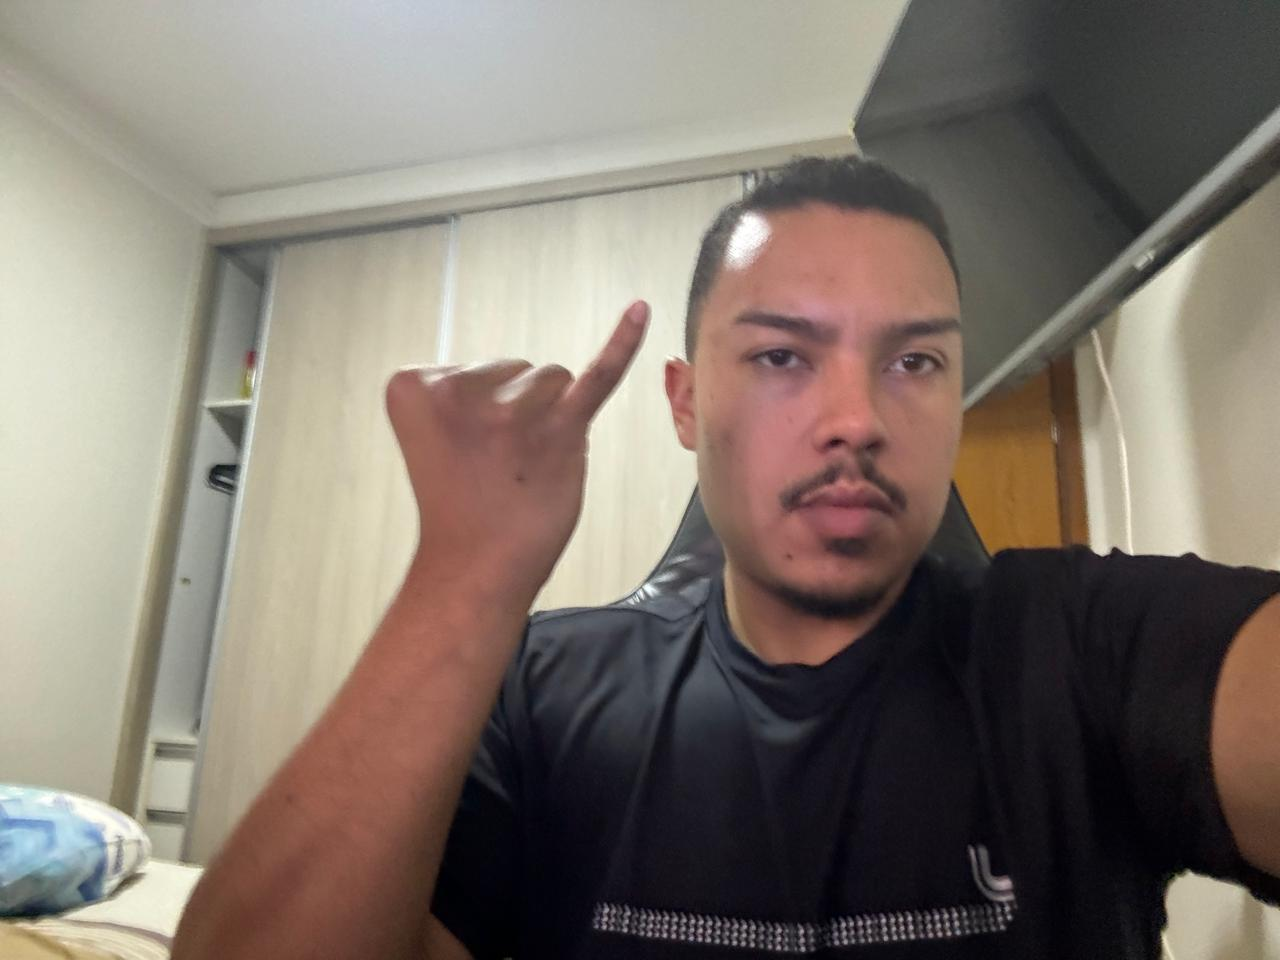j: (373, 295, 665, 586)
